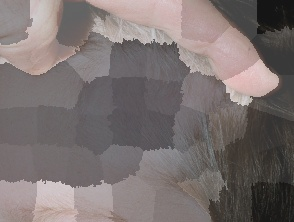vitiligo: (0, 0, 261, 222)
